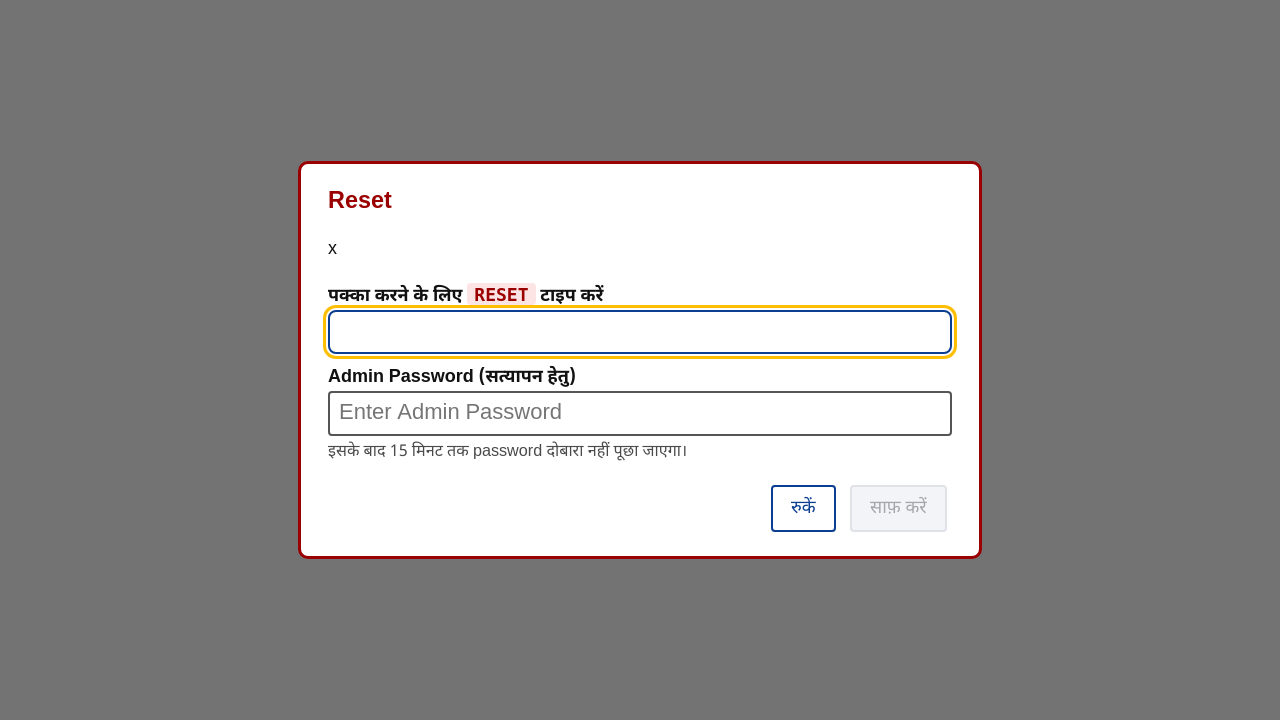
Test: panel parts › confirm: typed word + password, then the success screen with the backup file name
Expected: the button "साफ़ करें" is disabled, [850,486,947,532]
In the field labelled "पक्का करने के लिए RESET टाइप करें": (640, 332) [328,310,952,354], type "RESET"
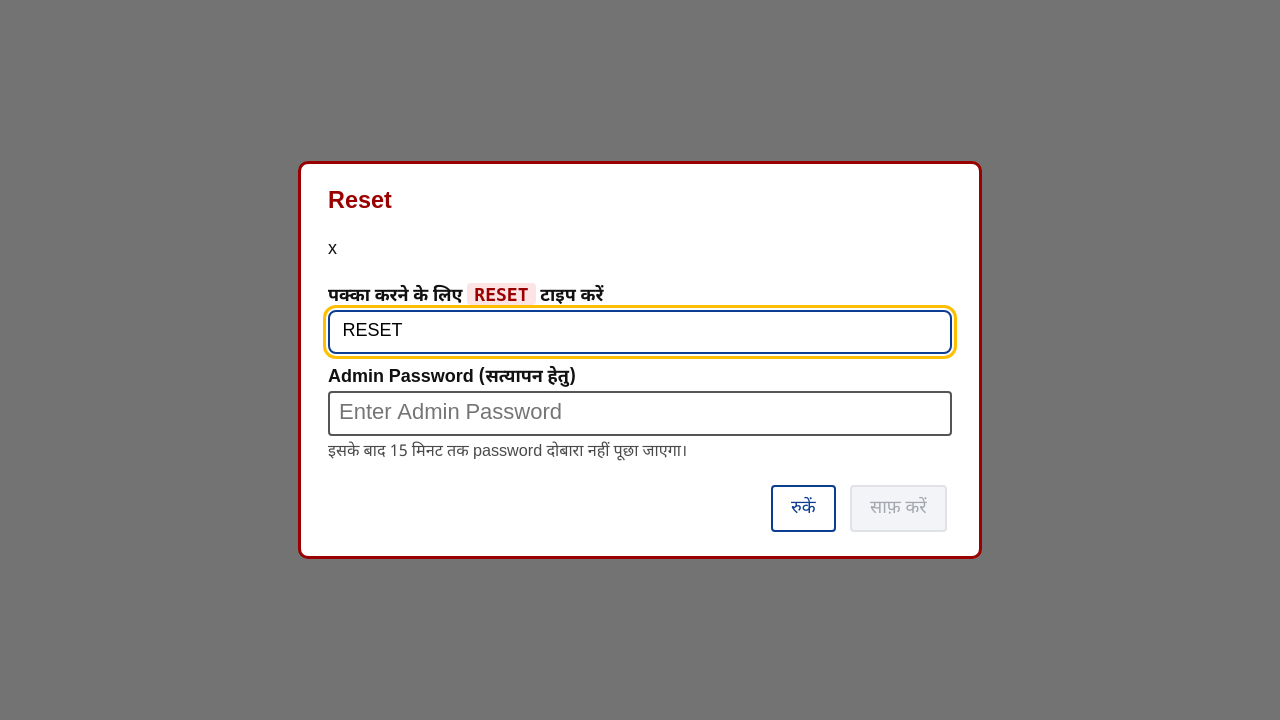
Expected: the button "साफ़ करें" is disabled, [850,486,947,532]
In the password field labelled "Admin Password (सत्यापन हेतु)": (640, 413) [328,391,952,436], type "secret-pass"
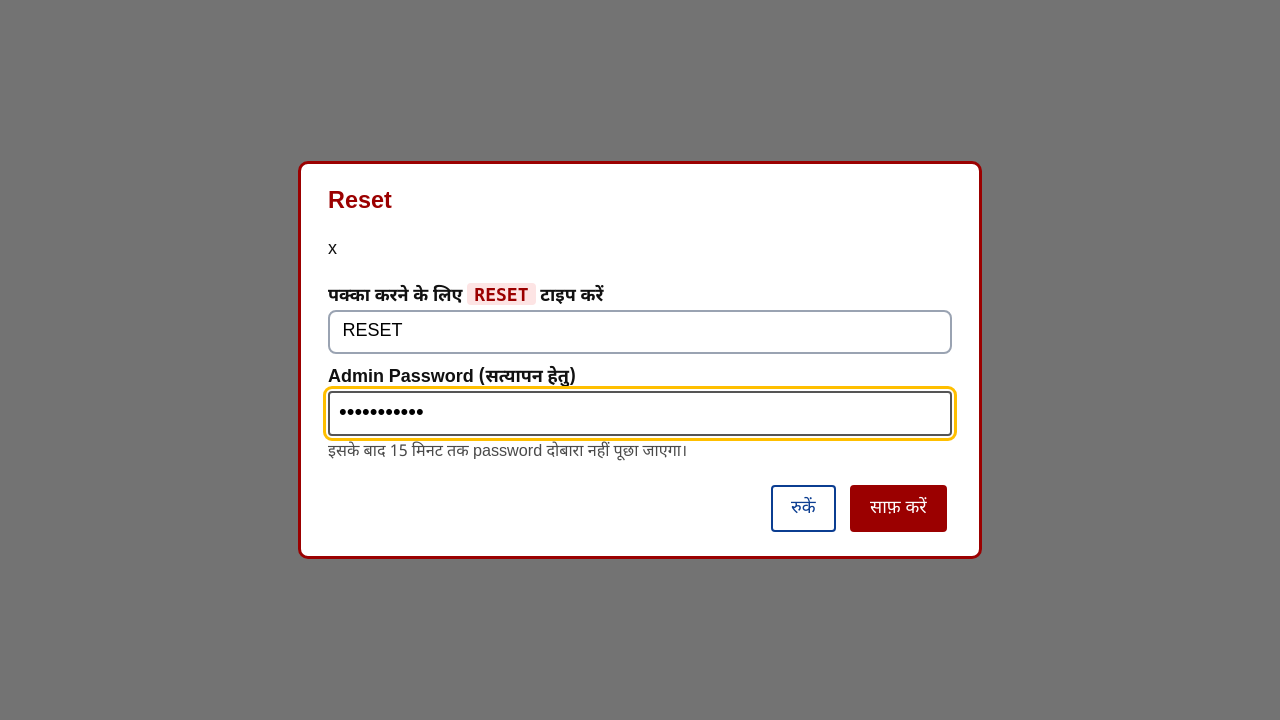
Click the button "साफ़ करें": (898, 509) [850,486,947,532]
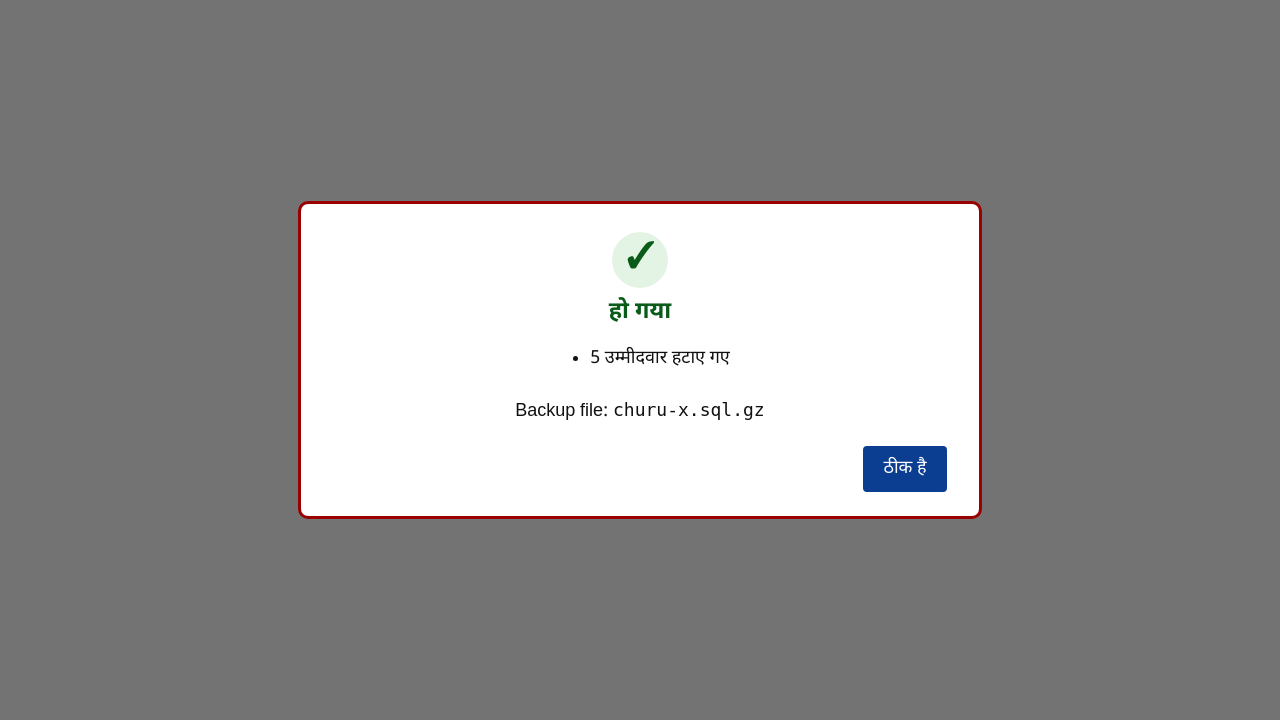
Now the message "✓ हो गया 5 उम्मीदवार हटाए गए Backup file: churu-x.sql.gz ठीक है" is shown, box [515,232,947,492]
Now the text "churu-x.sql.gz" is shown, box [613,399,765,420]
Now the list item "5 उम्मीदवार हटाए गए" is shown, box [590,346,730,372]
